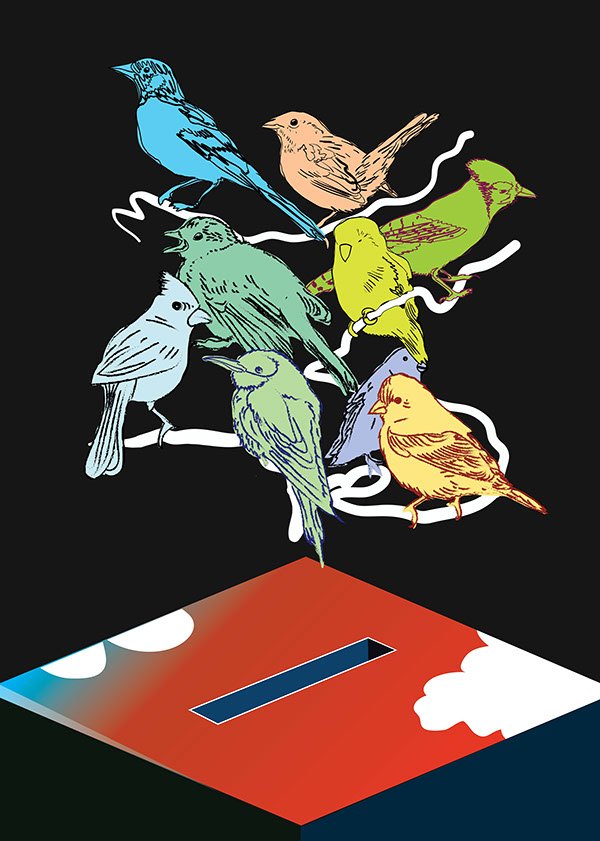bird: (113, 54, 331, 249), (159, 215, 363, 400), (200, 347, 340, 573), (367, 370, 553, 533), (82, 271, 217, 483), (262, 104, 444, 218), (324, 346, 428, 482)
